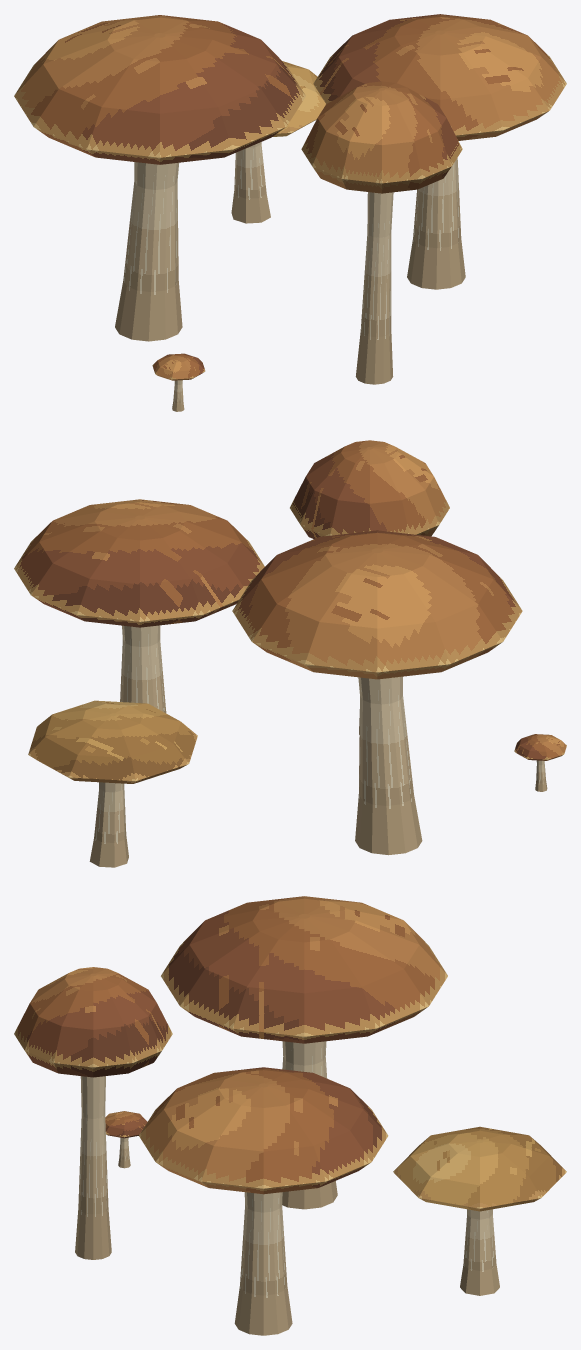
Rendered from woodland_mushroom.glb.
The picture shows the model from 3 angles, top to bottom: view 1: azimuth 30°, elevation 25°; view 2: azimuth 150°, elevation 25°; view 3: azimuth 270°, elevation 25°; orthographic projection.
Visible parts, largest first — view 1: WoodlandMushroomPatch; view 2: WoodlandMushroomPatch; view 3: WoodlandMushroomPatch.
Boxes of the visible parts, box(x1,y1,x2,y2) form: WoodlandMushroomPatch: box(14, 14, 566, 411); WoodlandMushroomPatch: box(14, 440, 566, 867); WoodlandMushroomPatch: box(14, 896, 566, 1335).
Bounding box in the file's own units: 0.75 × 0.4179 × 0.7362.
Materials: 1 (1 with a texture image).
